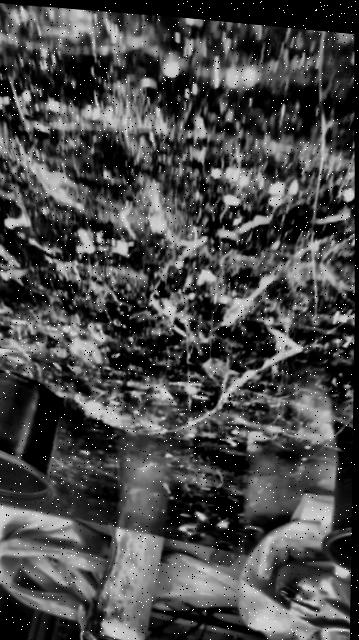pot: (0, 372, 58, 504), (318, 436, 353, 575)
